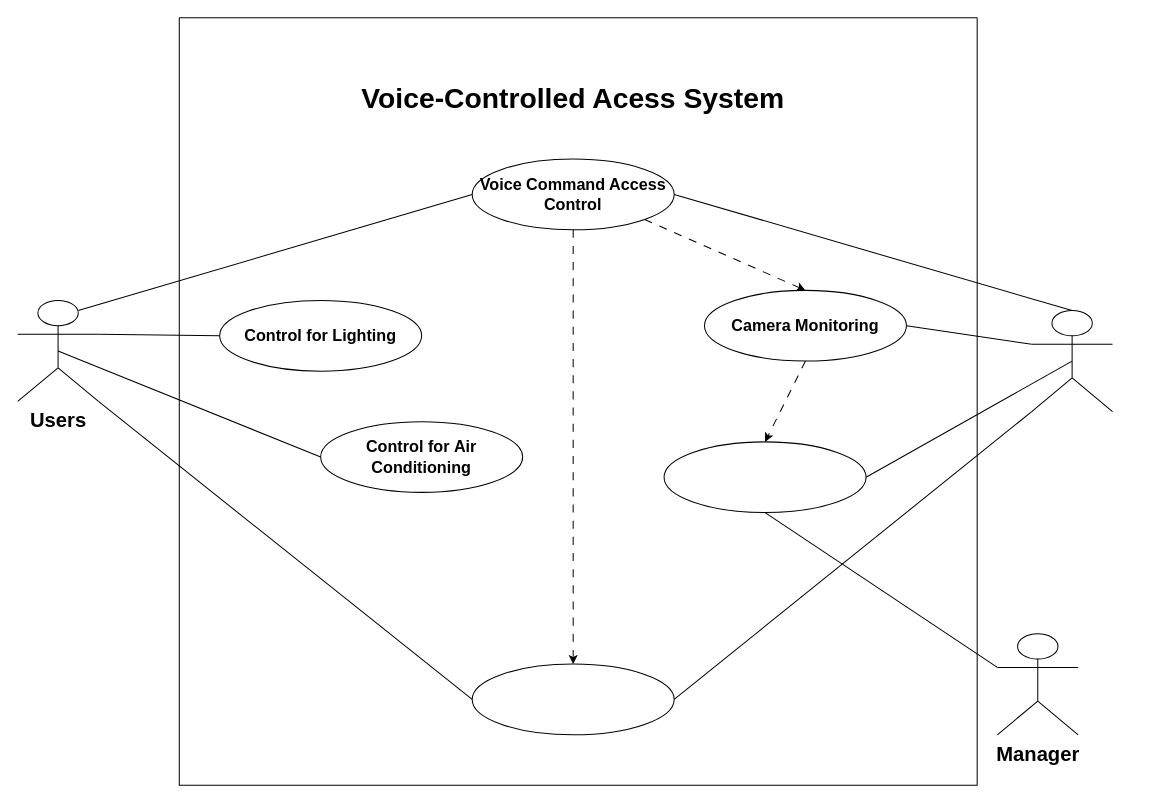
The diagram is 1169 pixels wide and 803 high, and some of its shapes have lost their labels. The shapes that lost their labels are listed below. From the top down, each one's box as (x1, y1, x2, y2) in pixels, then its label:
(1031, 310, 1113, 412): Security System
(663, 441, 866, 513): Automatic Alert Reception
(471, 663, 674, 735): Facial Recognition System Use
